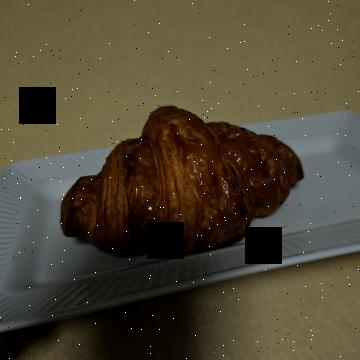croissant: (96, 54, 269, 315)
